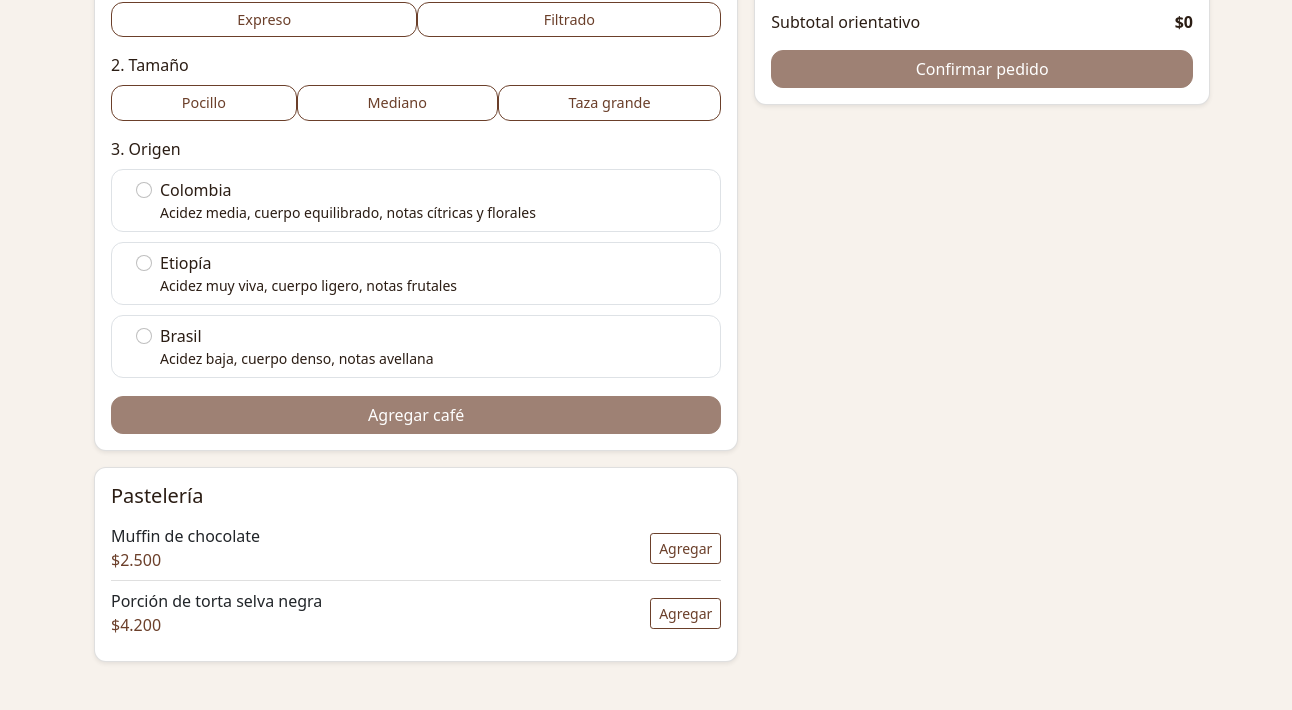
menú completo › agregar un producto de pastelería lo guarda en el carrito
The image size is (1292, 710).
(page scrolled)
Click the button with aria-label "Agregar Muffin de chocolate": (686, 548) [650, 532, 721, 564]
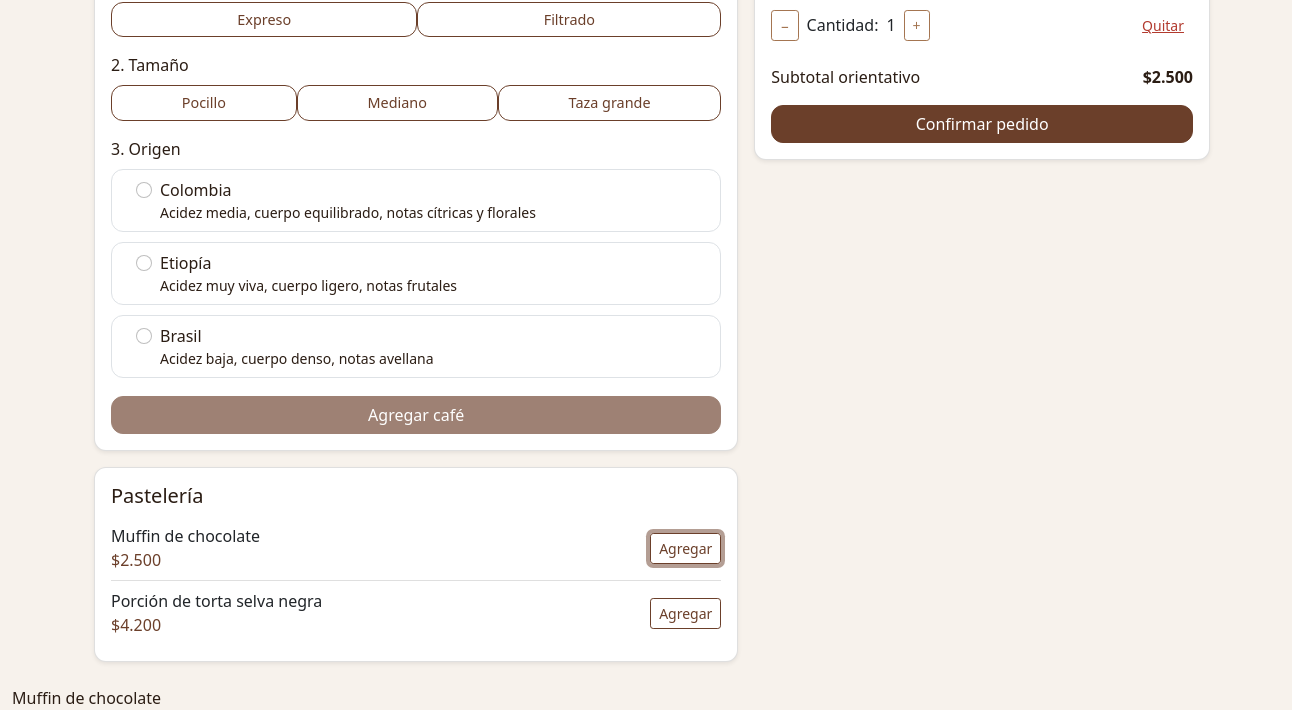
Now the text named "carrito" reads "Muffin de chocolate", box [12, 687, 161, 709]
